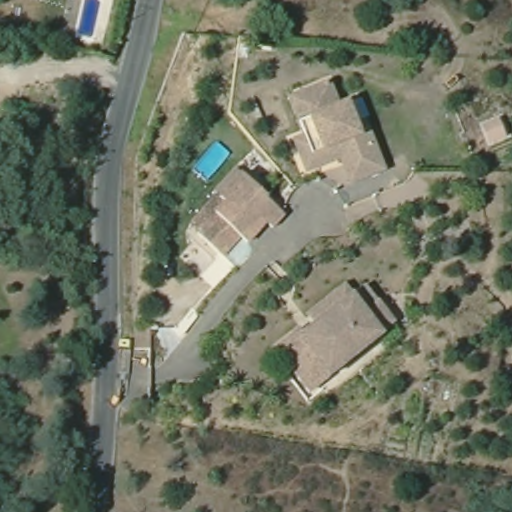pool: (189, 142, 233, 180), (72, 1, 103, 39)
